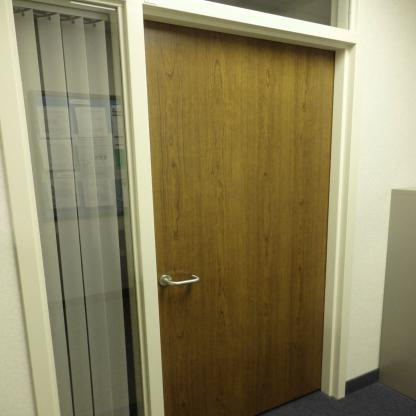door: (144, 18, 322, 415)
lever: (164, 274, 200, 292)
